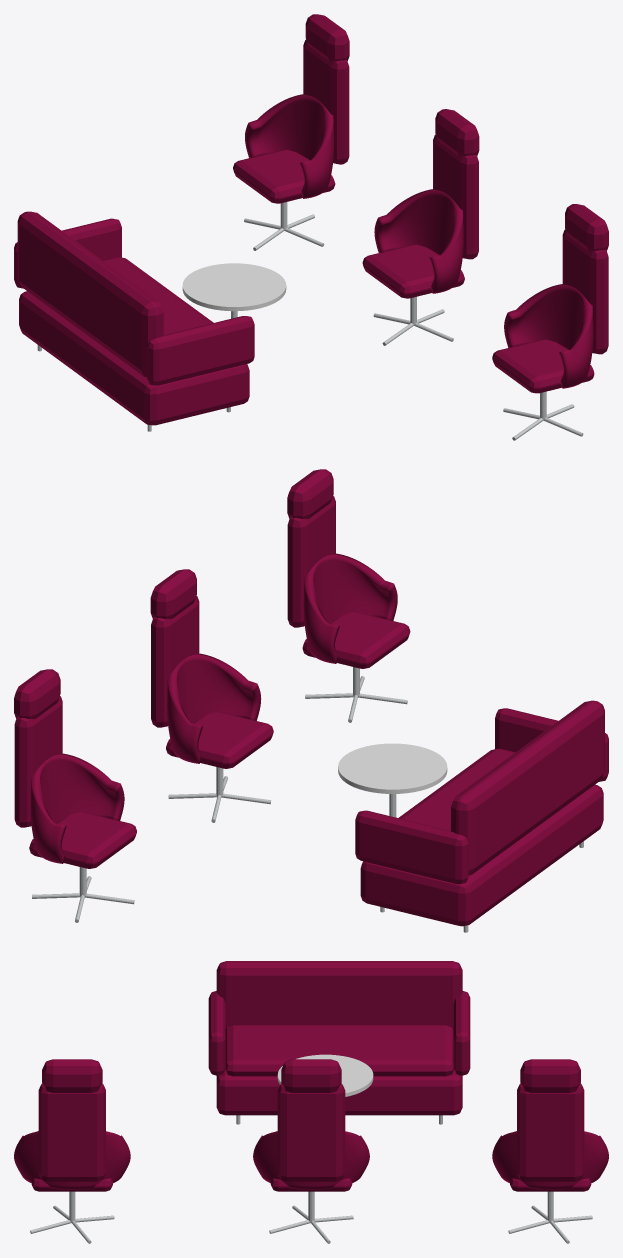
Rendered from SM_L3_Furniture_Solid_ad23c1460d_0.fbx.
The picture shows the model from 3 angles, top to bottom: view 1: azimuth 30°, elevation 25°; view 2: azimuth 150°, elevation 25°; view 3: azimuth 270°, elevation 25°; orthographic projection. The views are drawn at different scales.
Visible parts, largest first — view 1: SM_L3_Furniture_Solid_ad23c1460d_0; view 2: SM_L3_Furniture_Solid_ad23c1460d_0; view 3: SM_L3_Furniture_Solid_ad23c1460d_0.
Part boxes in pixels (left/top/right/bottom): SM_L3_Furniture_Solid_ad23c1460d_0: left=14, top=14, right=608, bottom=440; SM_L3_Furniture_Solid_ad23c1460d_0: left=14, top=469, right=608, bottom=932; SM_L3_Furniture_Solid_ad23c1460d_0: left=14, top=961, right=608, bottom=1243.
Size of the model in its own units: 2.82 by 4.23 by 1.46.
